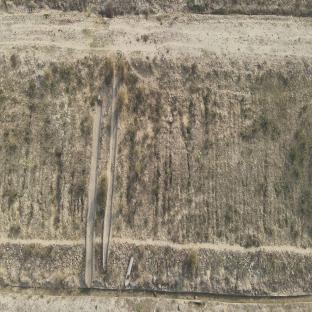rock_toe: (112, 242, 310, 288), (1, 242, 82, 280)
slope_drain: (102, 65, 122, 270), (84, 98, 104, 283)
toe_drain: (0, 284, 312, 305)
